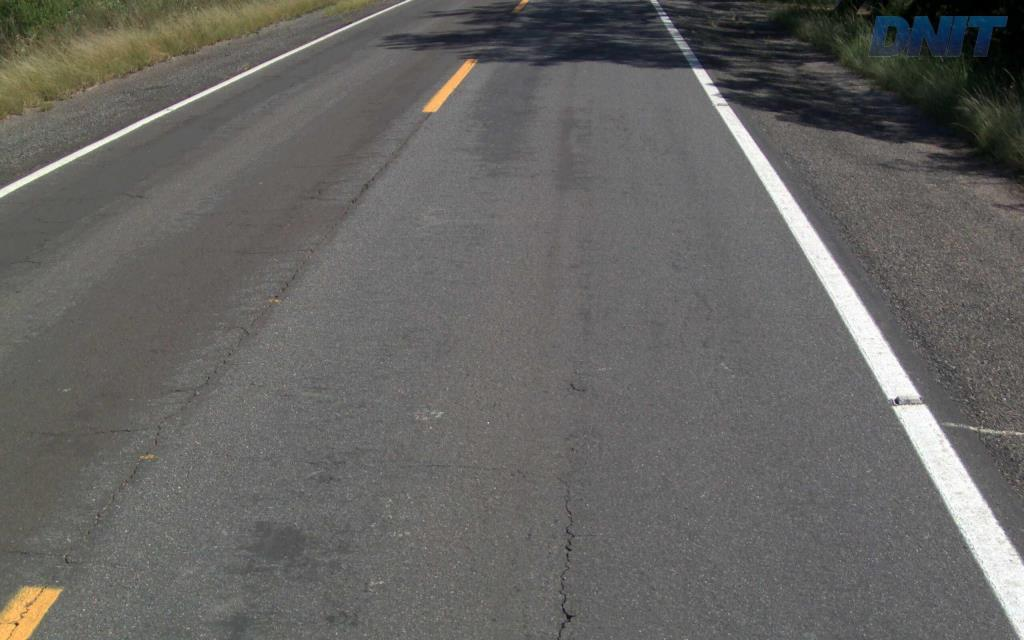crack: (556, 562, 577, 639)
